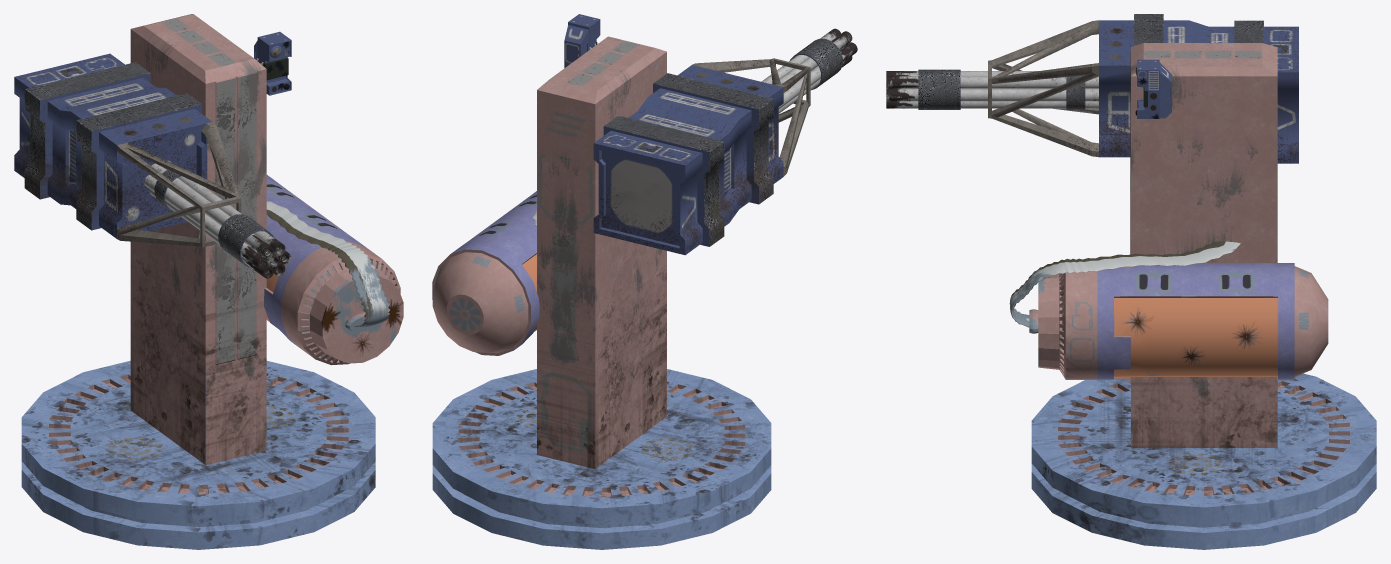
The picture shows the model from 3 angles, left to right: view 1: azimuth 30°, elevation 25°; view 2: azimuth 150°, elevation 25°; view 3: azimuth 270°, elevation 25°; orthographic projection. The views are drawn at different scales.
Parts seen in each view (by area): view 1: Base, Turret, Clip, Cam; view 2: Base, Turret, Clip, Cam; view 3: Base, Clip, Turret, Cam.
Boxes of the visible parts, <box> form: Base: <box>21,14,375,549</box>; Turret: <box>14,53,290,278</box>; Clip: <box>264,175,403,365</box>; Cam: <box>254,31,291,95</box>; Base: <box>432,36,771,549</box>; Turret: <box>593,28,857,255</box>; Clip: <box>432,191,539,355</box>; Cam: <box>564,14,600,67</box>; Base: <box>1031,43,1376,549</box>; Clip: <box>1009,241,1328,379</box>; Turret: <box>886,14,1298,163</box>; Cam: <box>1135,59,1171,118</box>.
Size of the model in its own units: 46.04 by 62.88 by 64.44.
4 materials, 4 textured.
